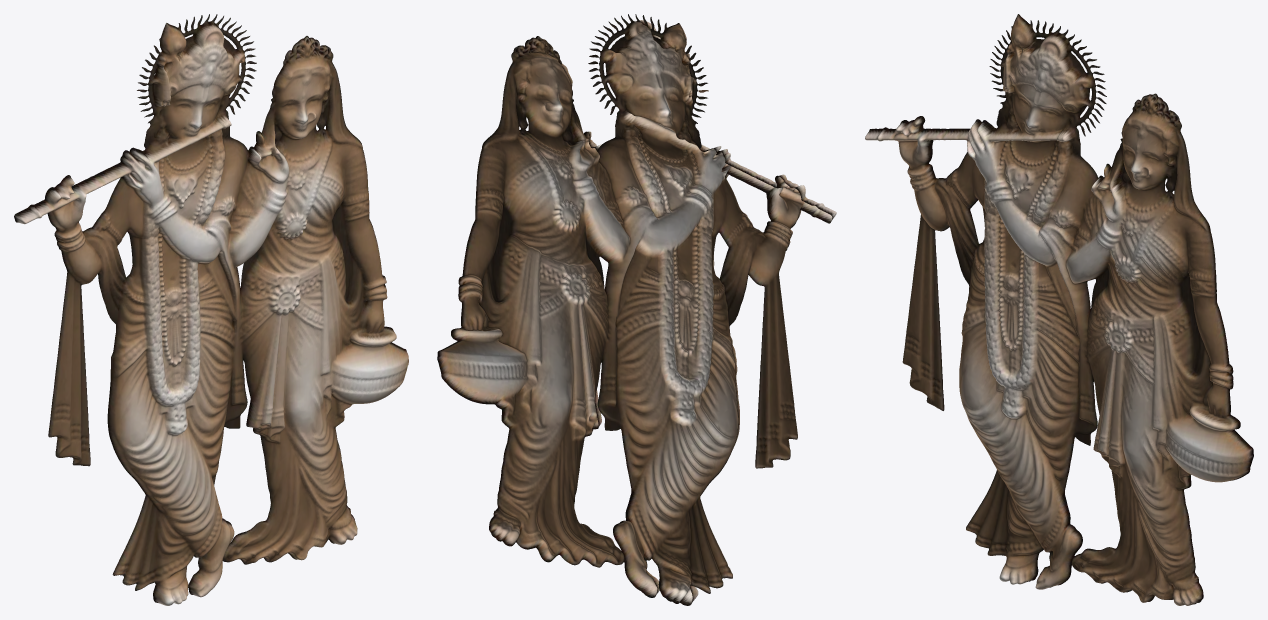
Rendered from radha_krishan.glb.
3 views of the same model, side by side, from view 1: azimuth 30°, elevation 25°; view 2: azimuth 150°, elevation 25°; view 3: azimuth 330°, elevation 25° (orthographic). The views are drawn at different scales.
Visible parts, largest first — view 1: Plane_Material_0; view 2: Plane_Material_0; view 3: Plane_Material_0.
Boxes of the visible parts, <box> form: Plane_Material_0: <box>14,14,408,605</box>; Plane_Material_0: <box>437,14,836,605</box>; Plane_Material_0: <box>865,14,1253,605</box>.
Bounding box in the file's own units: 1.44 × 2.03 × 0.0737.
Materials: 1 (1 with a texture image).
